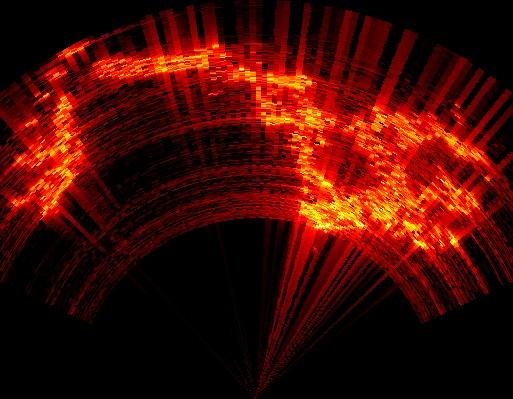shipwreck: (93, 44, 501, 269), (15, 89, 84, 215)
